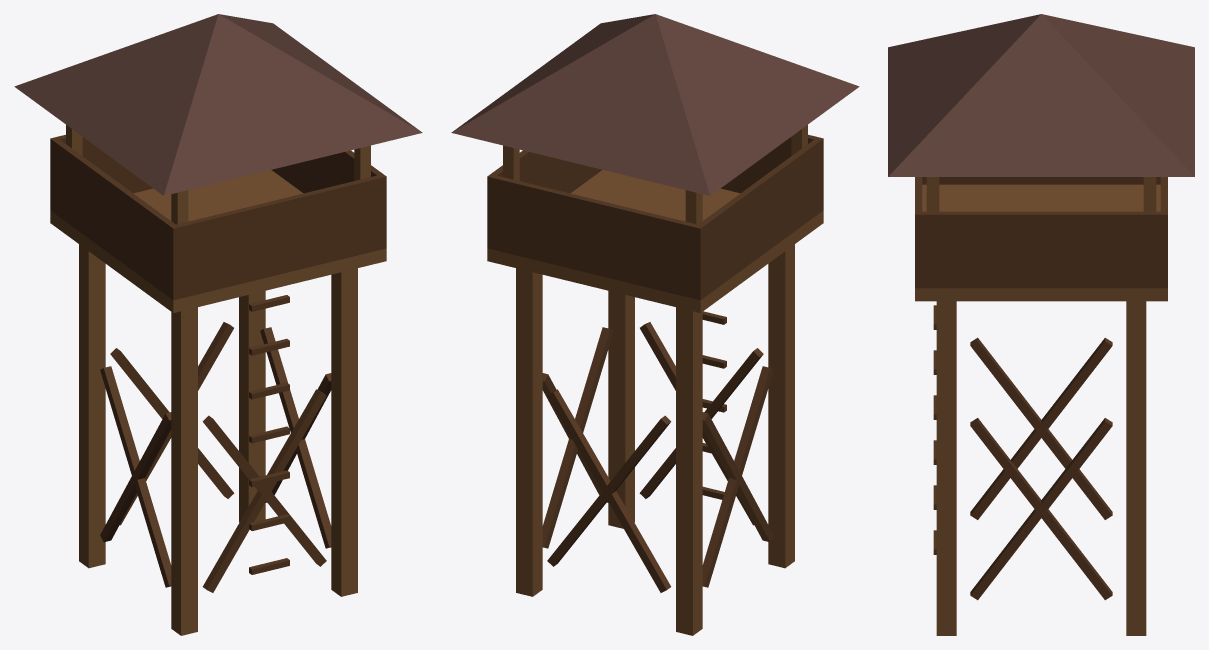
File: bld_watchtower.glb
The picture shows the model from 3 angles, left to right: view 1: azimuth 30°, elevation 25°; view 2: azimuth 150°, elevation 25°; view 3: azimuth 270°, elevation 25°; orthographic projection. The views are drawn at different scales.
Parts seen in each view (by area): view 1: bld_watchtower; view 2: bld_watchtower; view 3: bld_watchtower.
Boxes of the visible parts, x1=… form: bld_watchtower: x1=14, y1=14, x2=422, y2=635; bld_watchtower: x1=451, y1=14, x2=859, y2=635; bld_watchtower: x1=888, y1=14, x2=1194, y2=635.
Size of the model in its own units: 3.4 by 7.06 by 3.4.
